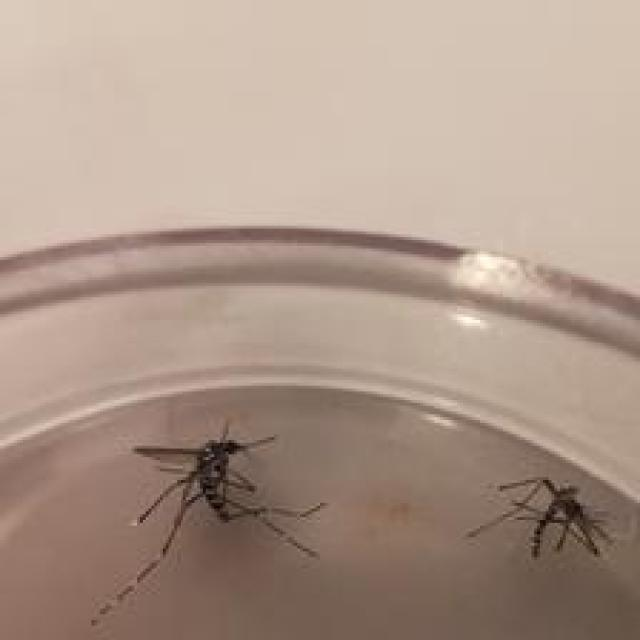Aedes albopictus: (90, 416, 327, 627)
